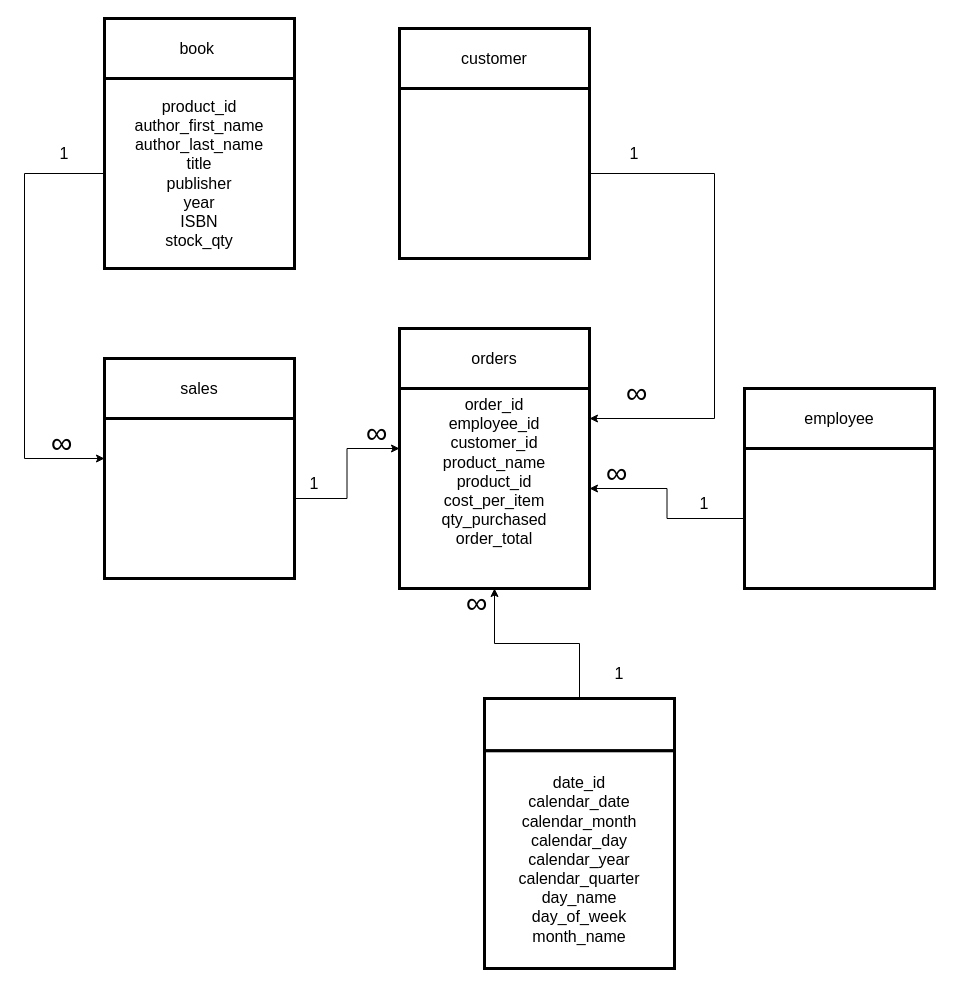
Some shapes in this 953 by 987 pixel diagram are drawn without their labels. The box of each missing label's shape, as (x1, y1, x2, y2) in pixels:
customer_id first_name last_name address phone_number email: (398, 86, 590, 260)
Date_Table: (482, 696, 676, 752)
employee_id first_name last_name position full_time_flag: (742, 446, 936, 590)
sale_id order_id product_id product_name cost_per_item qty_purchased: (102, 416, 296, 580)
